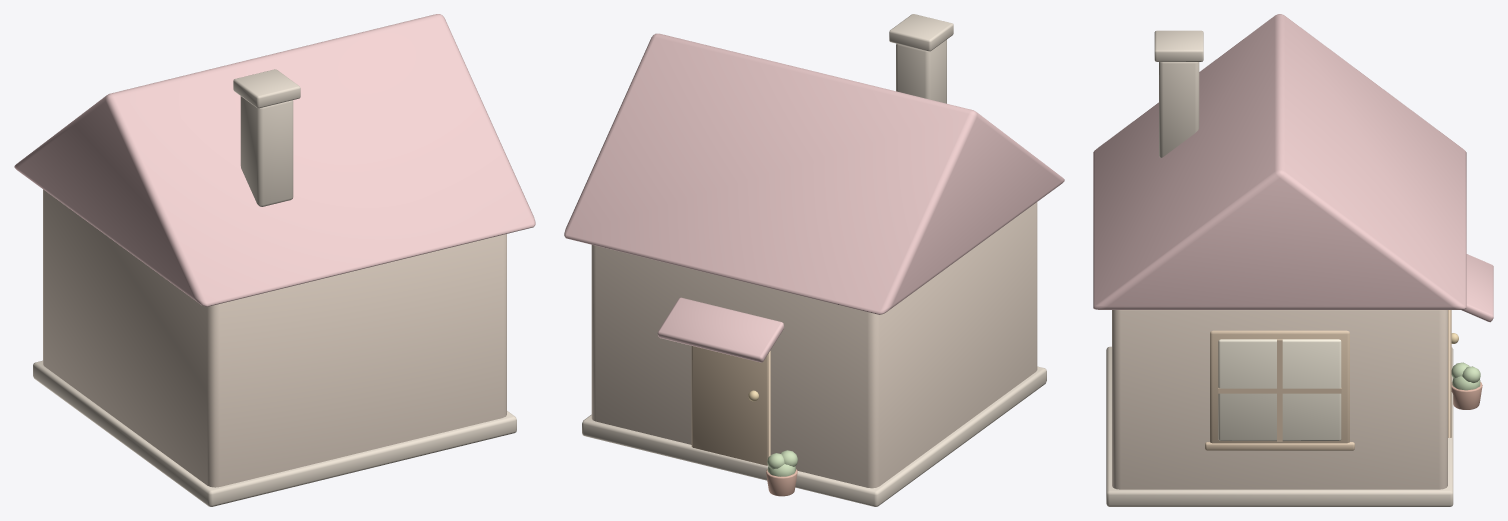
Rendered from Structures_Cabin_A_S_v01.glb.
3 views of the same model, side by side, from view 1: azimuth 30°, elevation 25°; view 2: azimuth 150°, elevation 25°; view 3: azimuth 270°, elevation 25° (orthographic). The views are drawn at different scales.
Visible parts, largest first — view 1: Cabin_Roof, Cabin_Body, Cabin_Foundation, Cabin_Chimney, Cabin_Chimney_Cap; view 2: Cabin_Roof, Cabin_Body, Cabin_Door_Frame, Cabin_Foundation, Cabin_Door_Awning, Cabin_Chimney, Cabin_Chimney_Cap, Cabin_Plant_0; view 3: Cabin_Roof, Cabin_Body, Cabin_Window_Big_Glass, Cabin_Foundation, Cabin_Window_Big_Frame, Cabin_Chimney, Cabin_Door_Awning, Cabin_Chimney_Cap, Cabin_Plant_0, Cabin_Window_Big_Sill, Cabin_Window_Big_MullionH, Cabin_Window_Big_MullionV (+1 smaller).
Part boxes in pixels (bbox=[...]): Cabin_Roof: bbox=[14, 14, 535, 306]; Cabin_Body: bbox=[43, 189, 506, 487]; Cabin_Foundation: bbox=[33, 360, 516, 506]; Cabin_Chimney: bbox=[240, 96, 293, 206]; Cabin_Chimney_Cap: bbox=[233, 69, 300, 108]; Cabin_Roof: bbox=[564, 33, 1064, 314]; Cabin_Body: bbox=[591, 202, 1037, 488]; Cabin_Door_Frame: bbox=[691, 346, 770, 465]; Cabin_Foundation: bbox=[582, 366, 1046, 506]; Cabin_Door_Awning: bbox=[657, 297, 784, 362]; Cabin_Chimney: bbox=[896, 40, 946, 103]; Cabin_Chimney_Cap: bbox=[889, 14, 953, 51]; Cabin_Plant_0: bbox=[766, 450, 797, 496]; Cabin_Roof: bbox=[1093, 14, 1466, 309]; Cabin_Body: bbox=[1112, 310, 1447, 489]; Cabin_Window_Big_Glass: bbox=[1218, 339, 1341, 440]; Cabin_Foundation: bbox=[1106, 346, 1453, 506]; Cabin_Window_Big_Frame: bbox=[1210, 330, 1349, 443]; Cabin_Chimney: bbox=[1159, 62, 1199, 157]; Cabin_Door_Awning: bbox=[1461, 254, 1493, 322]; Cabin_Chimney_Cap: bbox=[1154, 30, 1203, 61]; Cabin_Plant_0: bbox=[1451, 362, 1482, 409]; Cabin_Window_Big_Sill: bbox=[1205, 442, 1354, 450]; Cabin_Window_Big_MullionH: bbox=[1218, 388, 1341, 393]; Cabin_Window_Big_MullionV: bbox=[1277, 339, 1282, 441].
Bounding box in the file's own units: 3.06 × 3.25 × 3.22.
